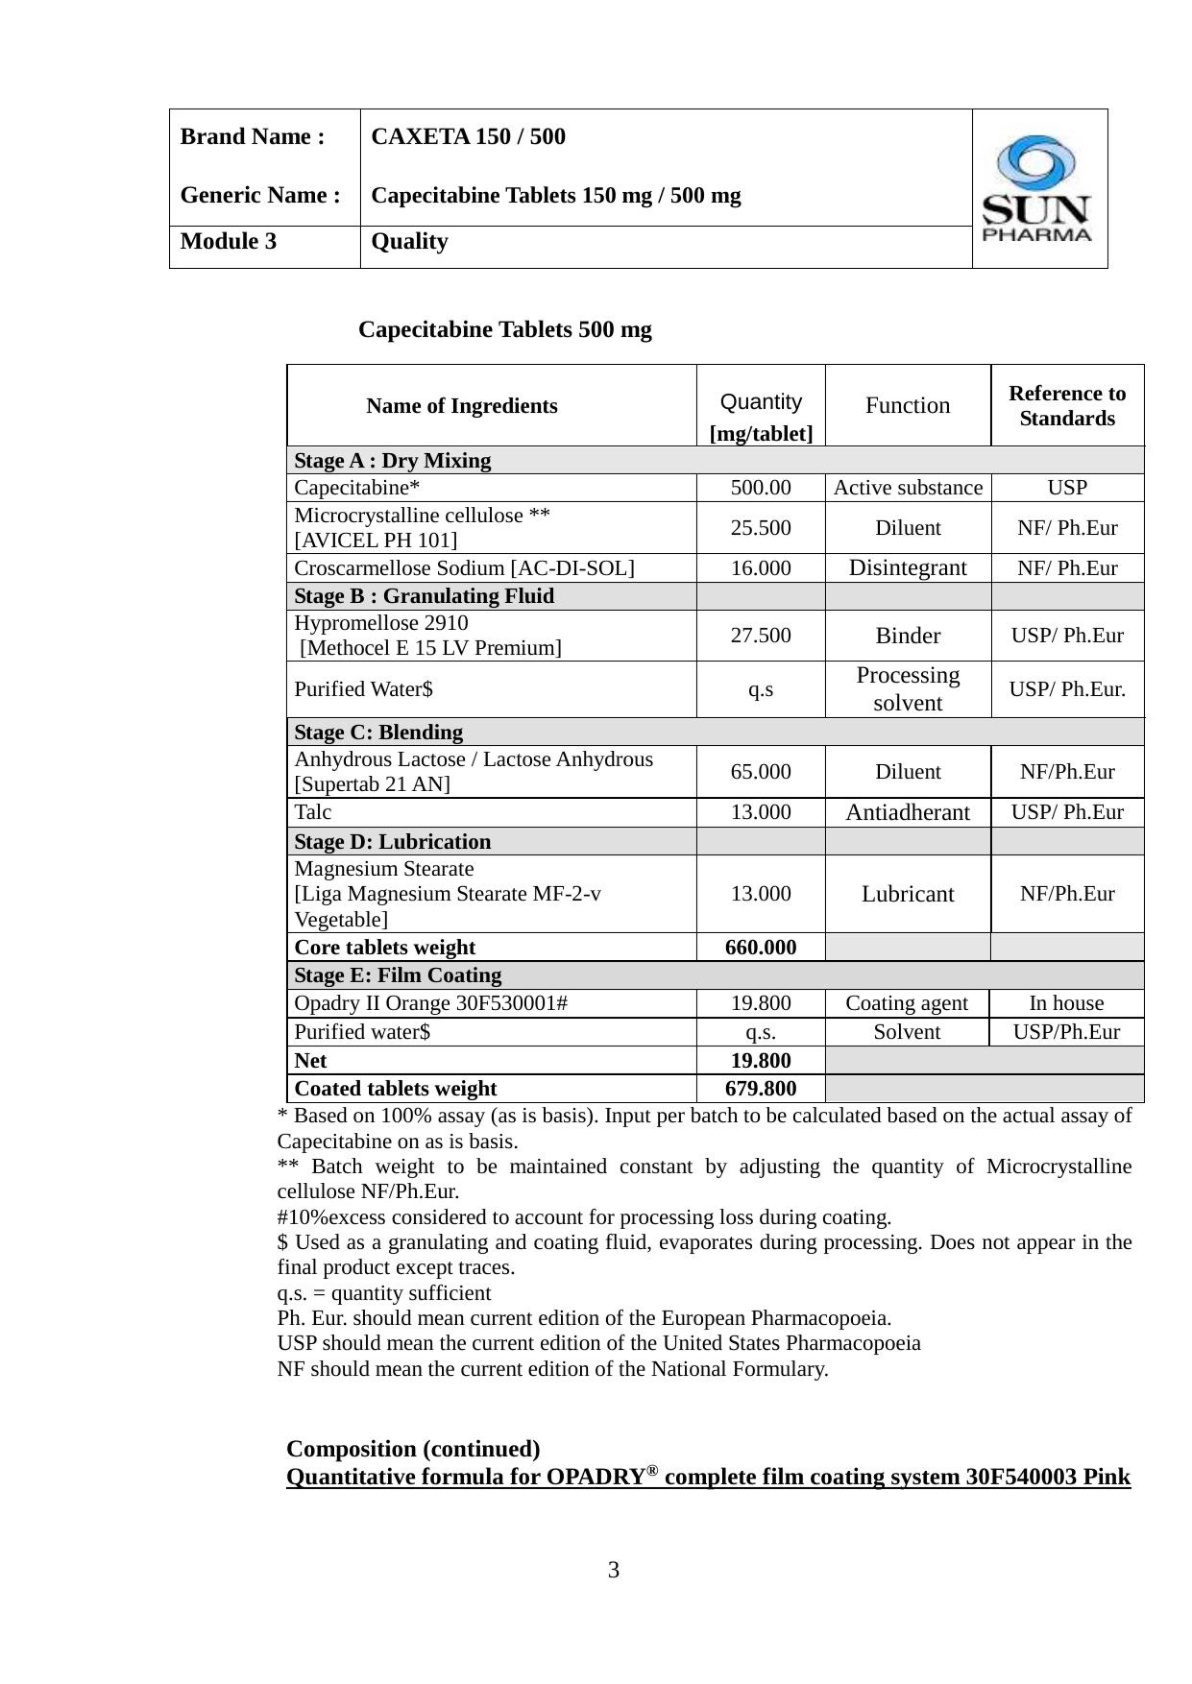merged_cells: (285, 364, 1146, 1104), (166, 107, 1109, 269)
